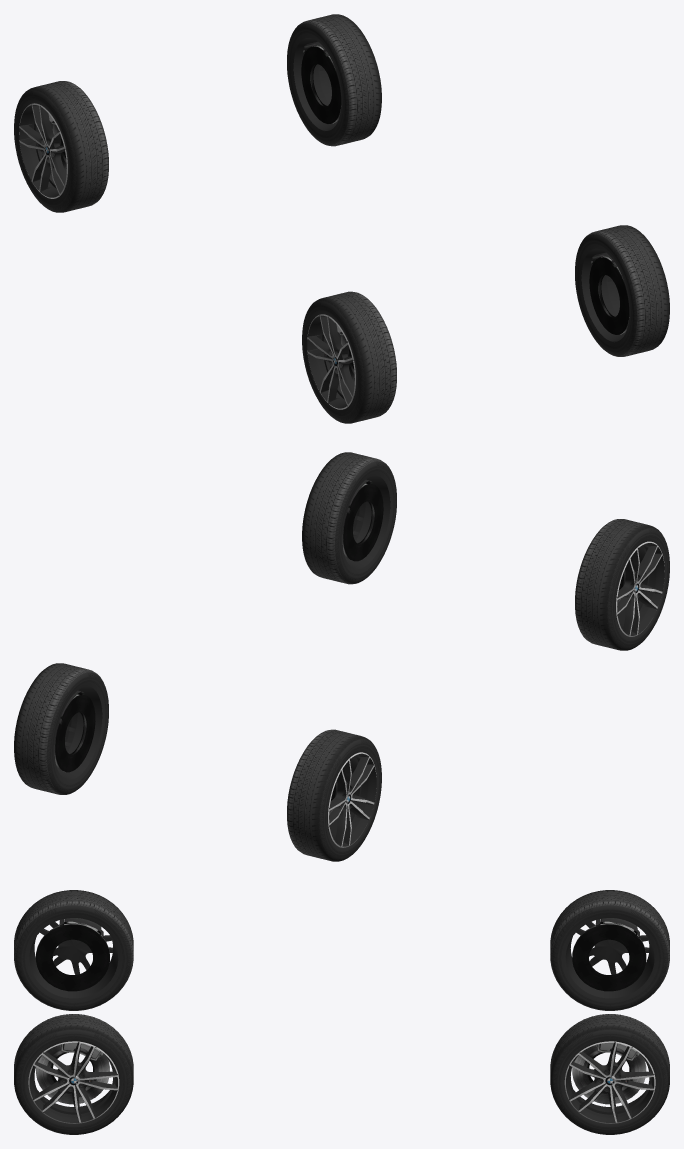
Rendered from bmwwheels.fbx.
3 views of the same model, one above another, from view 1: azimuth 30°, elevation 25°; view 2: azimuth 150°, elevation 25°; view 3: azimuth 270°, elevation 25° (orthographic). The views are drawn at different scales.
Visible parts, largest first — view 1: wheel-LF, wheel-RB, wheel-LB, wheel-RF; view 2: wheel-LB, wheel-RF, wheel-LF, wheel-RB; view 3: wheel-RF, wheel-RB, wheel-LB, wheel-LF.
Boxes of the visible parts, left/top/right/bottom form: wheel-LF: left=14, top=81, right=108, bottom=212; wheel-RB: left=575, top=225, right=669, bottom=356; wheel-LB: left=302, top=291, right=396, bottom=423; wheel-RF: left=287, top=14, right=381, bottom=146; wheel-LB: left=575, top=519, right=669, bottom=650; wheel-RF: left=14, top=663, right=108, bottom=794; wheel-LF: left=287, top=729, right=381, bottom=861; wheel-RB: left=302, top=452, right=396, bottom=584; wheel-RF: left=550, top=1014, right=669, bottom=1134; wheel-RB: left=14, top=1014, right=133, bottom=1134; wheel-LB: left=14, top=890, right=133, bottom=1010; wheel-LF: left=550, top=890, right=669, bottom=1010.
Size of the model in its own units: 1.7 by 0.6123 by 3.36.
6 materials, 4 textured.
